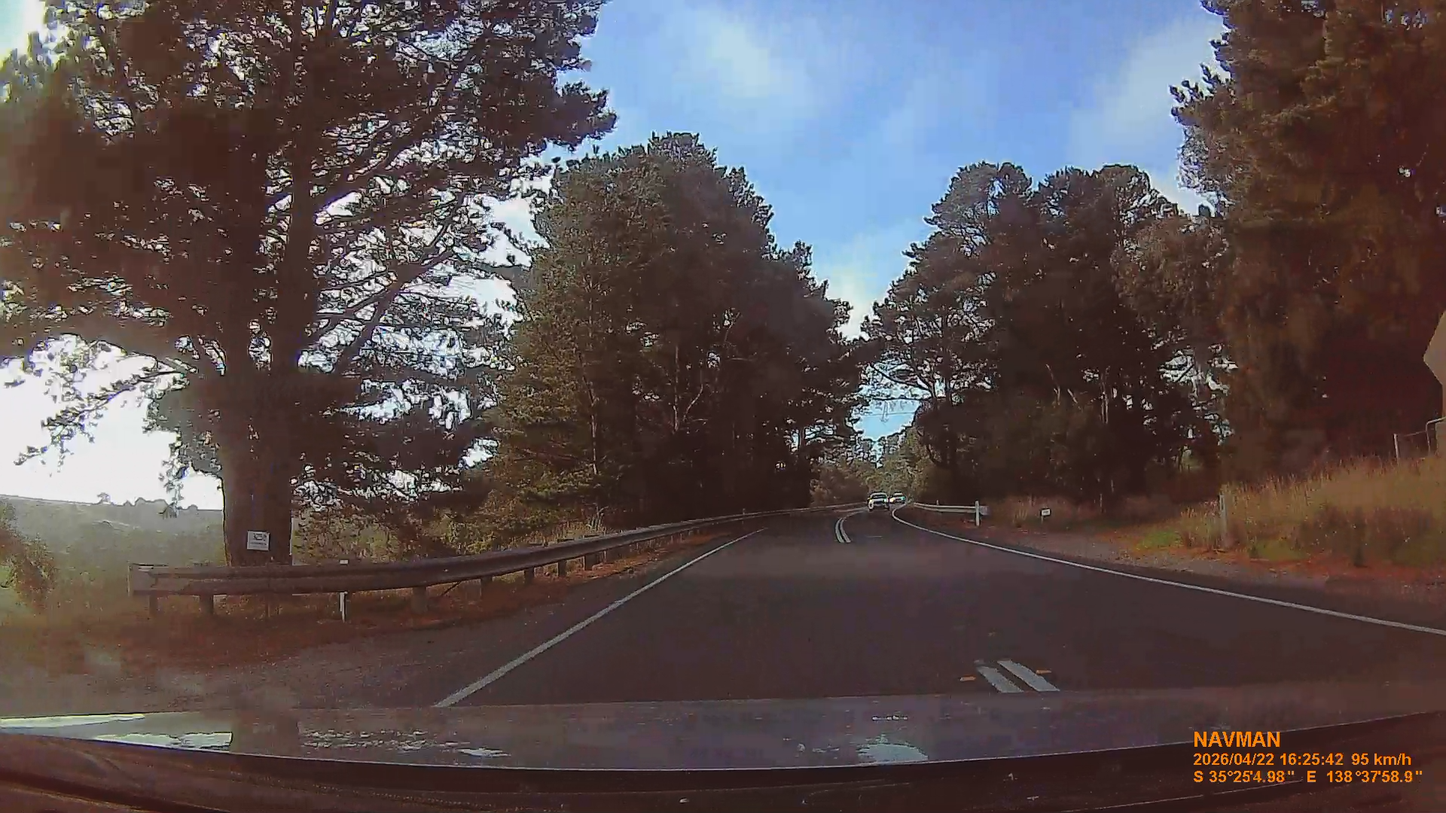road barriers: (136, 511, 777, 620)
